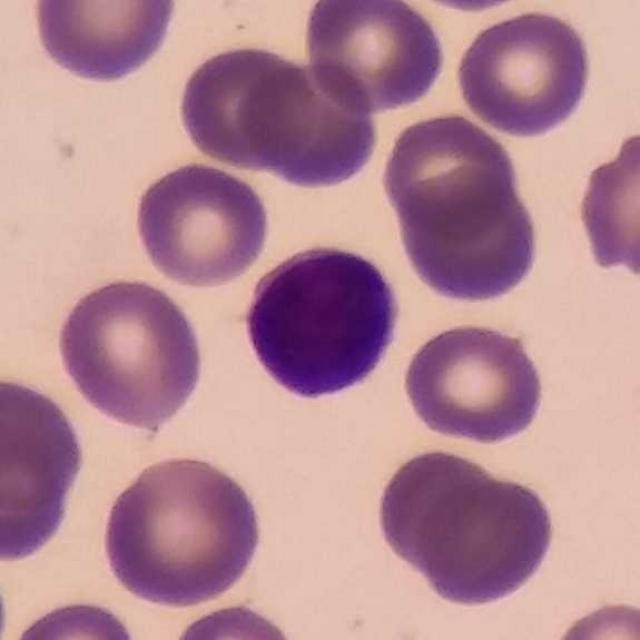Lymphocyte: (233, 232, 410, 410)
RBC: (98, 450, 267, 609), (51, 273, 209, 433), (409, 466, 558, 610), (392, 170, 545, 308), (236, 55, 382, 192), (398, 318, 550, 447), (453, 6, 597, 139), (377, 109, 523, 239), (130, 158, 273, 289), (0, 368, 90, 566), (174, 40, 310, 170), (302, 0, 448, 116), (373, 444, 501, 574), (28, 0, 182, 87), (572, 123, 640, 280), (2, 594, 145, 640), (164, 599, 306, 640), (546, 595, 640, 639), (388, 0, 551, 16)
